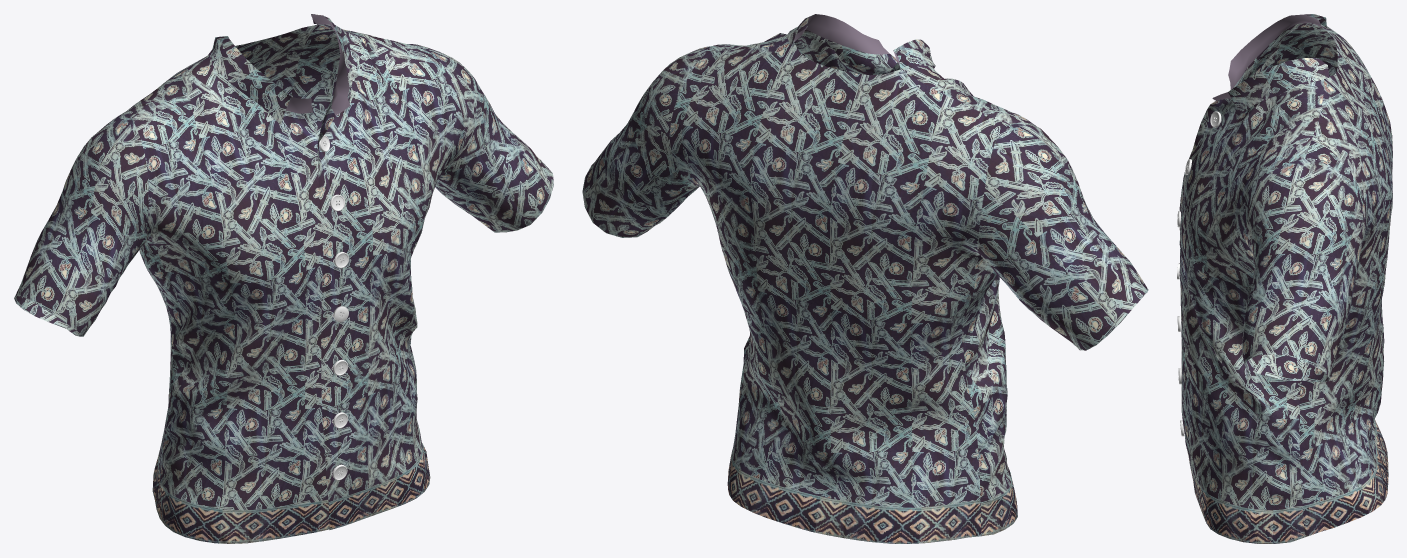
The model's file is Baju_Pendek.fbx.
3 renders of one model, left to right at view 1: azimuth 30°, elevation 25°; view 2: azimuth 150°, elevation 25°; view 3: azimuth 270°, elevation 25°, orthographic. The views are drawn at different scales.
Visible parts, largest first — view 1: Baju_Pendek; view 2: Baju_Pendek; view 3: Baju_Pendek.
Part boxes in pixels (bbox=[...]): Baju_Pendek: bbox=[14, 14, 553, 543]; Baju_Pendek: bbox=[582, 14, 1148, 543]; Baju_Pendek: bbox=[1177, 14, 1392, 543].
Bounding box in the file's own units: 735 × 620 × 268.
14 materials, 12 textured.
